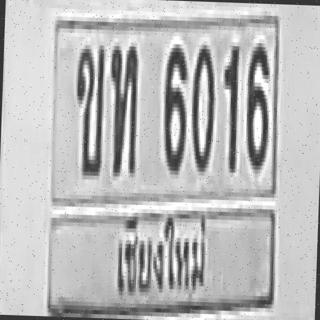A02: (73, 41, 104, 172)
A23: (106, 42, 138, 173)
N00: (188, 41, 214, 168)
N01: (220, 42, 239, 169)
N06: (161, 40, 188, 171), (243, 38, 269, 165)
P11: (110, 209, 211, 305)
